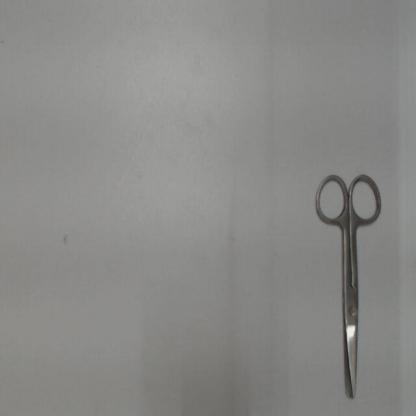Dressing Scissors: (307, 163, 385, 408)
